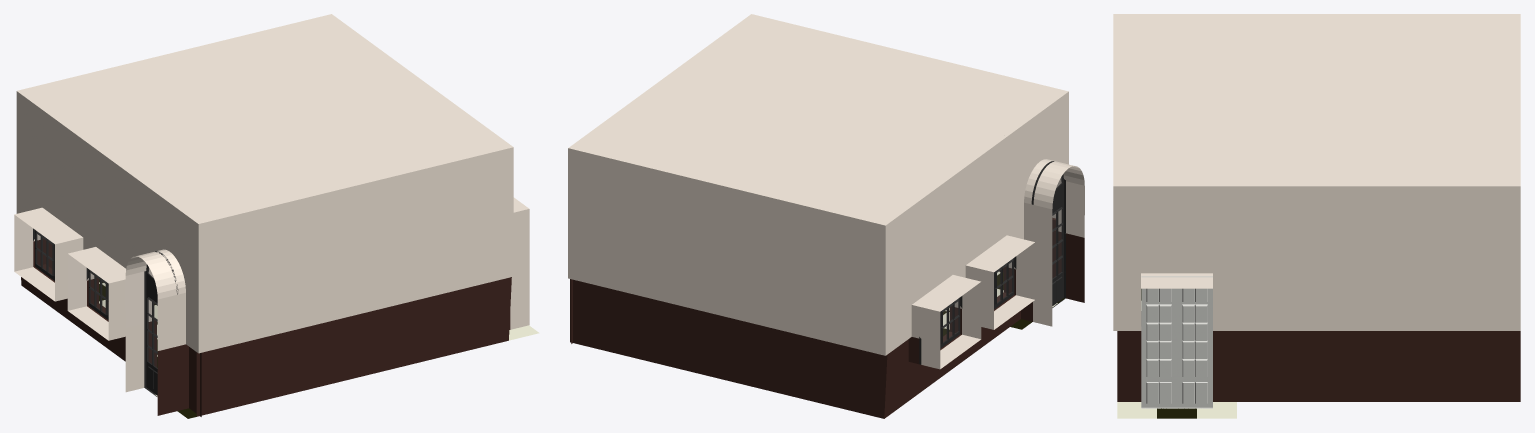
File: Sala-de-estar.fbx
The picture shows the model from 3 angles, left to right: view 1: azimuth 30°, elevation 25°; view 2: azimuth 150°, elevation 25°; view 3: azimuth 270°, elevation 25°; orthographic projection. The views are drawn at different scales.
Parts seen in each view (by area): view 1: pared.002, techo, pared.001, pared.003, puerta, ventana, pared, Piso; view 2: pared, techo, pared.001, puerta, ventana, pared.002, pared.003; view 3: pared.003, techo, puerta.001, Piso, pared.002, pared, pared.001.
Boxes of the visible parts, x1=… form: pared.002: x1=196, y1=146, x2=513, y2=416; techo: x1=21, y1=16, x2=508, y2=221; pared.001: x1=14, y1=91, x2=201, y2=416; pared.003: x1=331, y1=15, x2=529, y2=329; puerta: x1=144, y1=251, x2=178, y2=396; ventana: x1=33, y1=228, x2=108, y2=320; pared: x1=16, y1=14, x2=332, y2=279; Piso: x1=99, y1=279, x2=539, y2=418; pared: x1=568, y1=147, x2=887, y2=418; techo: x1=573, y1=16, x2=1063, y2=223; pared.001: x1=882, y1=91, x2=1084, y2=418; puerta: x1=1031, y1=161, x2=1065, y2=307; ventana: x1=919, y1=256, x2=1016, y2=364; pared.002: x1=750, y1=14, x2=1068, y2=278; pared.003: x1=570, y1=15, x2=752, y2=343; pared.003: x1=1113, y1=184, x2=1520, y2=401; techo: x1=1117, y1=15, x2=1516, y2=184; puerta.001: x1=1141, y1=276, x2=1212, y2=408; Piso: x1=1117, y1=289, x2=1236, y2=418; pared.002: x1=1113, y1=14, x2=1117, y2=330; pared: x1=1516, y1=14, x2=1520, y2=330; pared.001: x1=1117, y1=14, x2=1516, y2=15.
Bounding box in the file's own units: 601 × 300 × 510.
